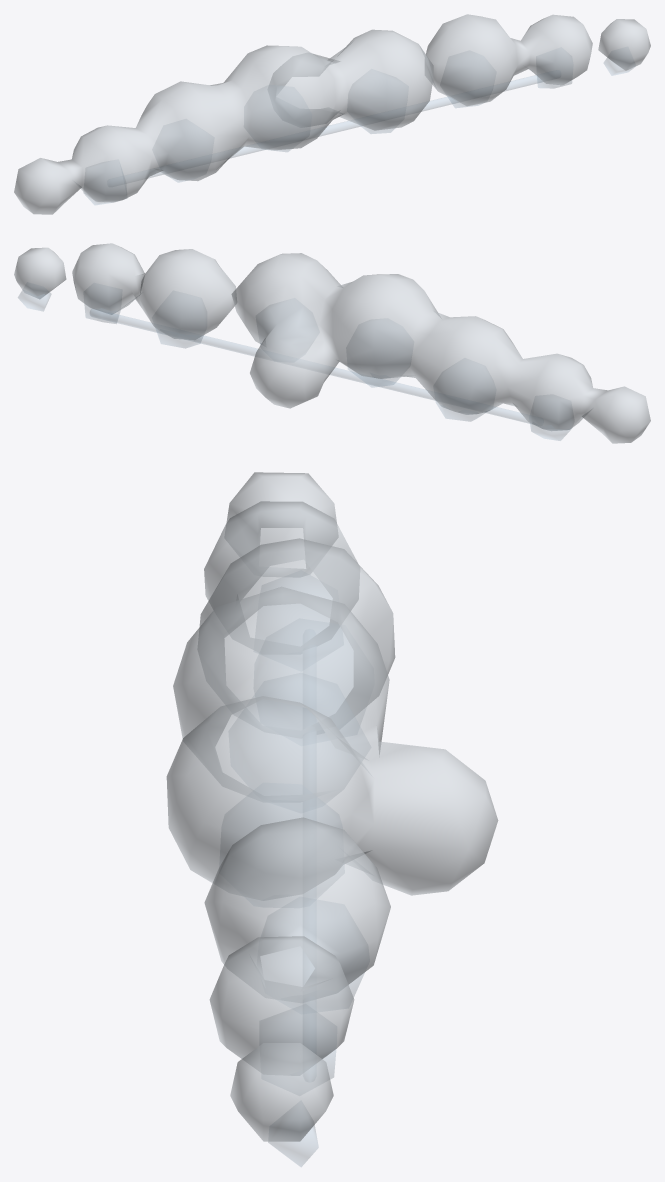
File: cloud_bank_c.glb
3 renders of one model, top to bottom at view 1: azimuth 30°, elevation 25°; view 2: azimuth 150°, elevation 25°; view 3: azimuth 270°, elevation 25°, orthographic. The views are drawn at different scales.
Visible parts, largest first — view 1: cloud_bank_c; view 2: cloud_bank_c; view 3: cloud_bank_c.
Part boxes in pixels (bbox=[...]): cloud_bank_c: bbox=[14, 14, 650, 214]; cloud_bank_c: bbox=[14, 243, 650, 443]; cloud_bank_c: bbox=[166, 472, 498, 1166].
Size of the model in its own units: 9.41 by 1.7 by 2.15.
